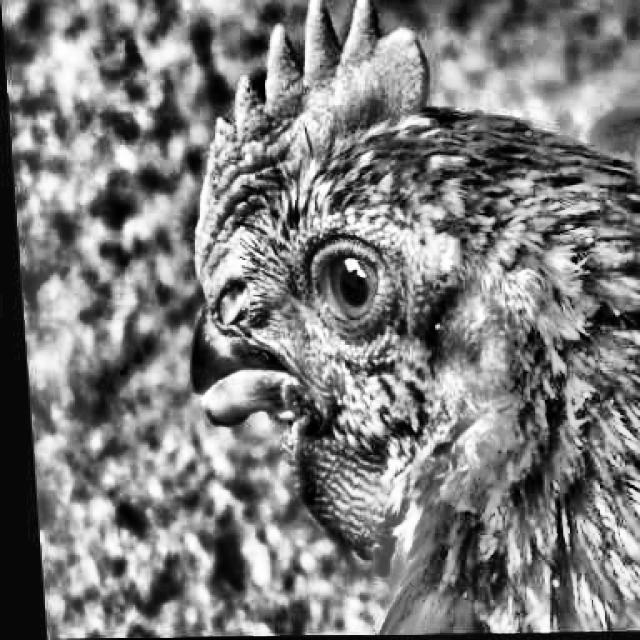Healthy: (282, 227, 426, 350)
